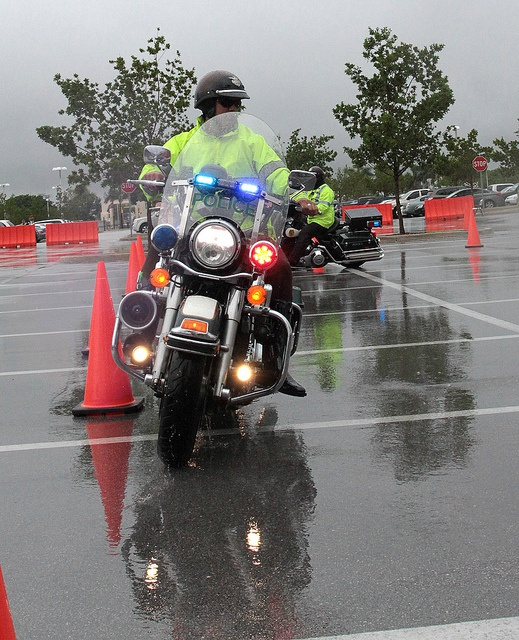non-vehicle: (115, 110, 317, 470), (283, 204, 382, 269)
